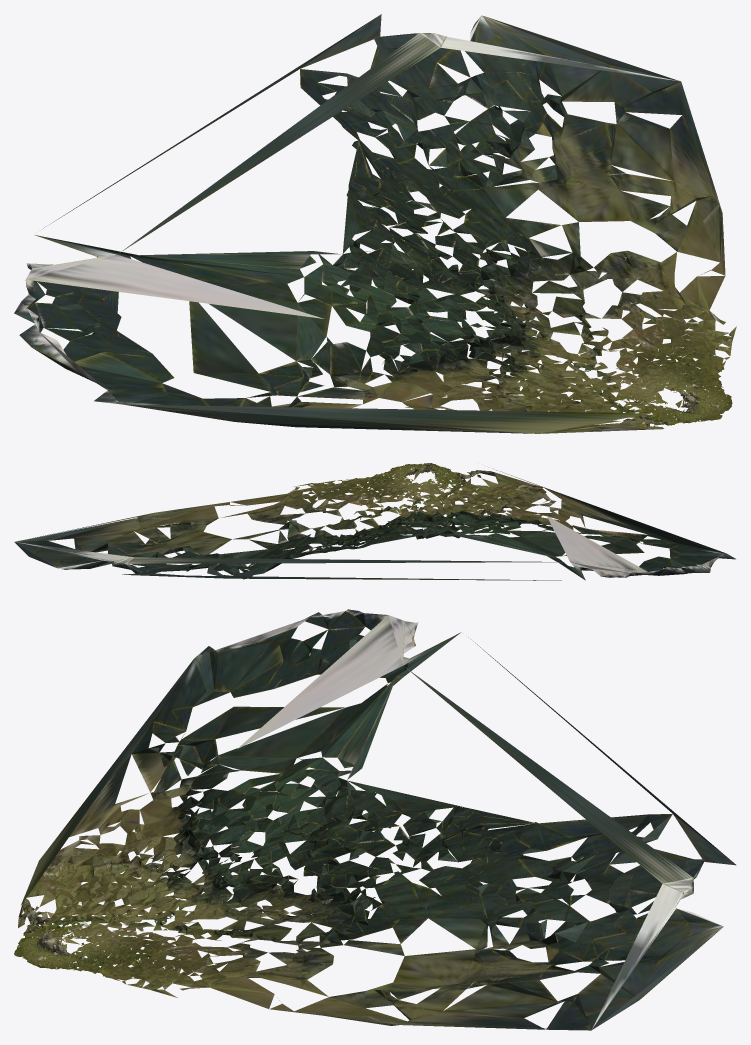
Rendered from after_textured.glb.
The picture shows the model from 3 angles, top to bottom: view 1: azimuth 30°, elevation 25°; view 2: azimuth 150°, elevation 25°; view 3: azimuth 270°, elevation 25°; orthographic projection. The views are drawn at different scales.
Parts seen in each view (by area): view 1: textured; view 2: textured; view 3: textured.
Part boxes in pixels (x1,y1,x2,y2): textured: (14, 14, 736, 433); textured: (14, 463, 735, 580); textured: (14, 609, 736, 1030).
Size of the model in its own units: 603 by 87.6 by 495.
Materials: 1 (1 with a texture image).
